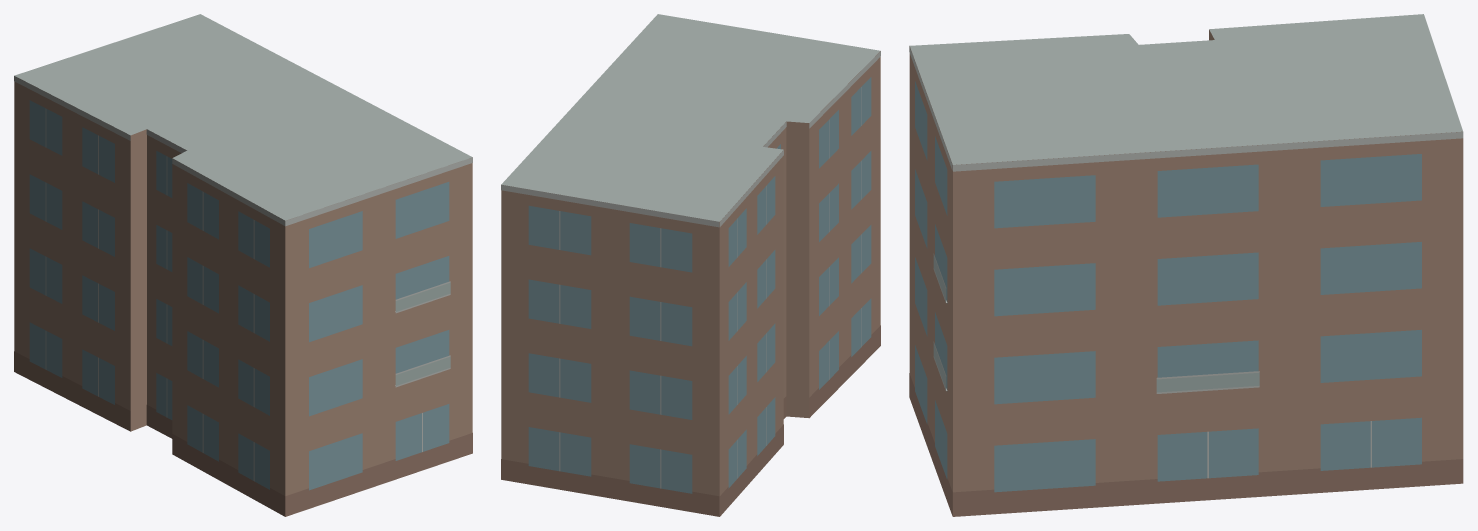
File: survey-upis-32743944.glb
The picture shows the model from 3 angles, left to right: view 1: azimuth 30°, elevation 25°; view 2: azimuth 150°, elevation 25°; view 3: azimuth 270°, elevation 25°; orthographic projection. The views are drawn at different scales.
Visible parts, largest first — view 1: survey-upis-32743944.tmp; view 2: survey-upis-32743944.tmp; view 3: survey-upis-32743944.tmp.
Boxes of the visible parts, x1=… form: survey-upis-32743944.tmp: x1=14, y1=14, x2=472, y2=516; survey-upis-32743944.tmp: x1=501, y1=14, x2=880, y2=516; survey-upis-32743944.tmp: x1=909, y1=14, x2=1463, y2=516.
Size of the model in its own units: 11.79 by 12.8 by 18.26.
